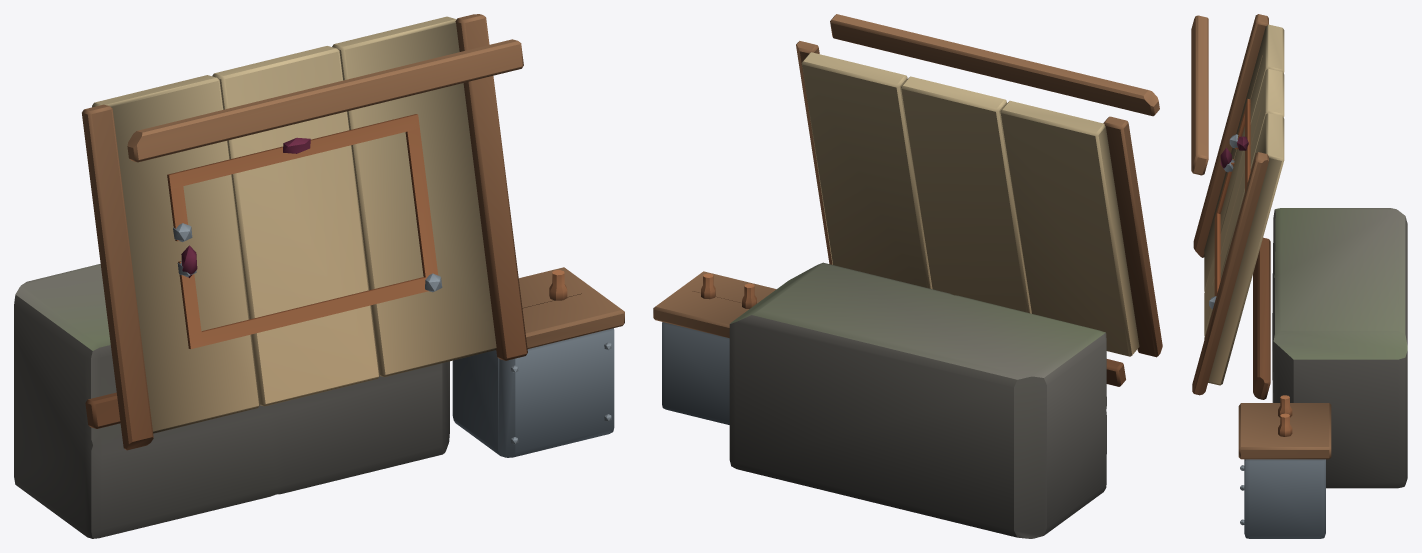
File: ruins-board-v3.glb
The picture shows the model from 3 angles, left to right: view 1: azimuth 30°, elevation 25°; view 2: azimuth 150°, elevation 25°; view 3: azimuth 270°, elevation 25°; orthographic projection. The views are drawn at different scales.
Visible parts, largest first — view 1: 0_ruins_board; view 2: 0_ruins_board; view 3: 0_ruins_board.
Boxes of the visible parts, box(x1,y1,x2,y2) form: 0_ruins_board: box(14, 14, 624, 538); 0_ruins_board: box(653, 14, 1162, 538); 0_ruins_board: box(1191, 14, 1407, 538).
Size of the model in its own units: 1.69 by 1.37 by 0.7942.
